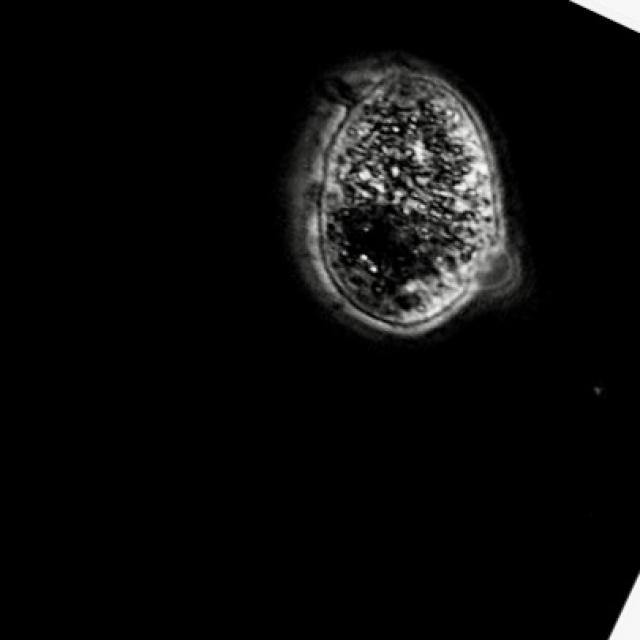Cell: (286, 52, 521, 349)
